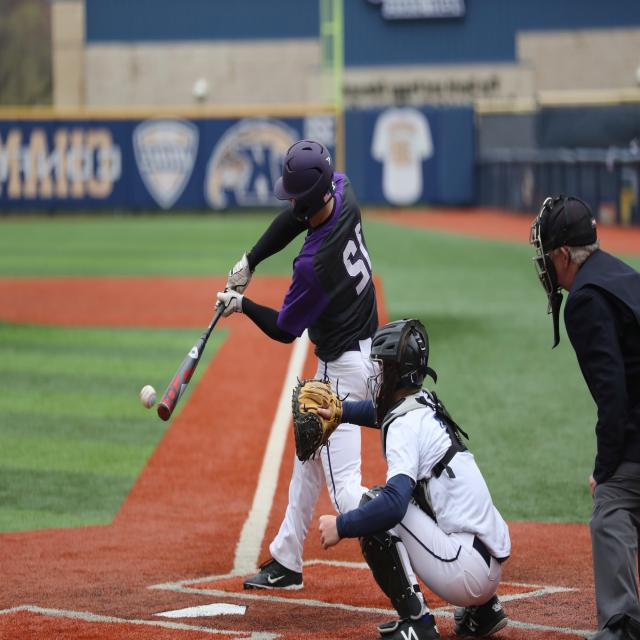adult: (216, 141, 380, 593), (315, 317, 504, 640), (543, 192, 640, 640)
